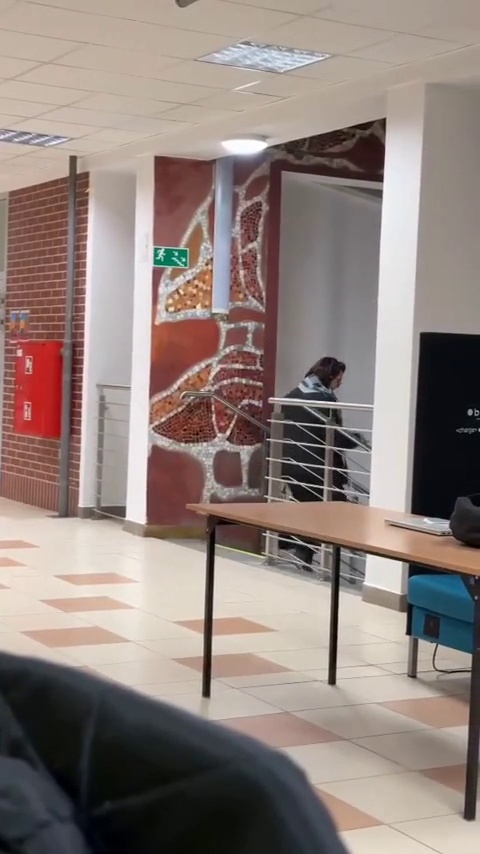no vest: (277, 347, 356, 579)
